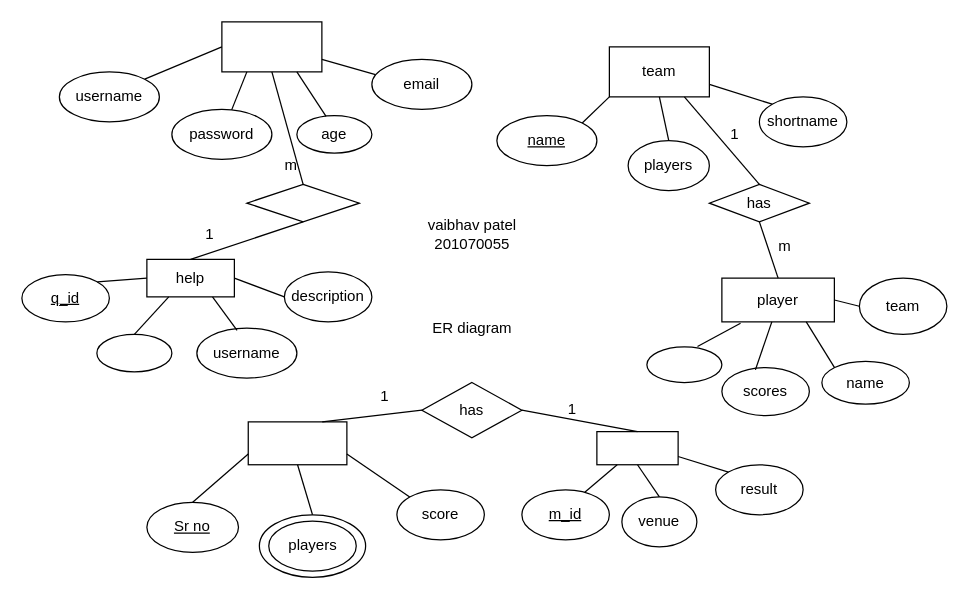
Some shapes in this 969 by 600 pixel diagram are drawn without their labels. Here are the shapes that lost their labels. From the top down, the centre of each, then its label:
At [271,46]: "user".
At [302,202]: "can take".
At [134,352]: "title".
At [684,364]: "p_id".
At [297,443]: "predictions".
At [637,447]: "match".
